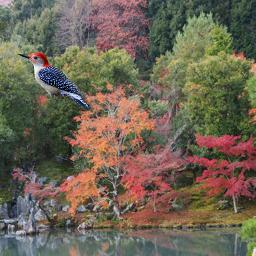Woodpecker: (17, 52, 92, 110)
